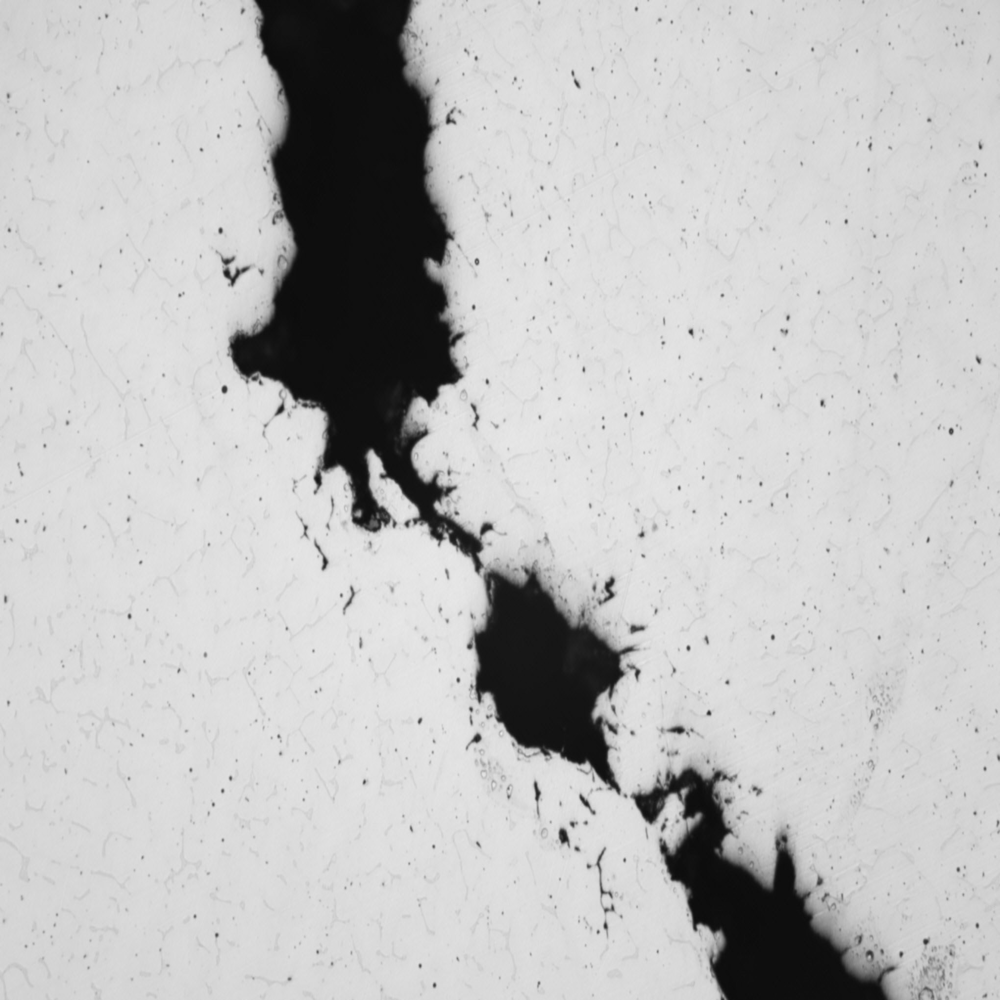crack: (185, 9, 923, 1000)
